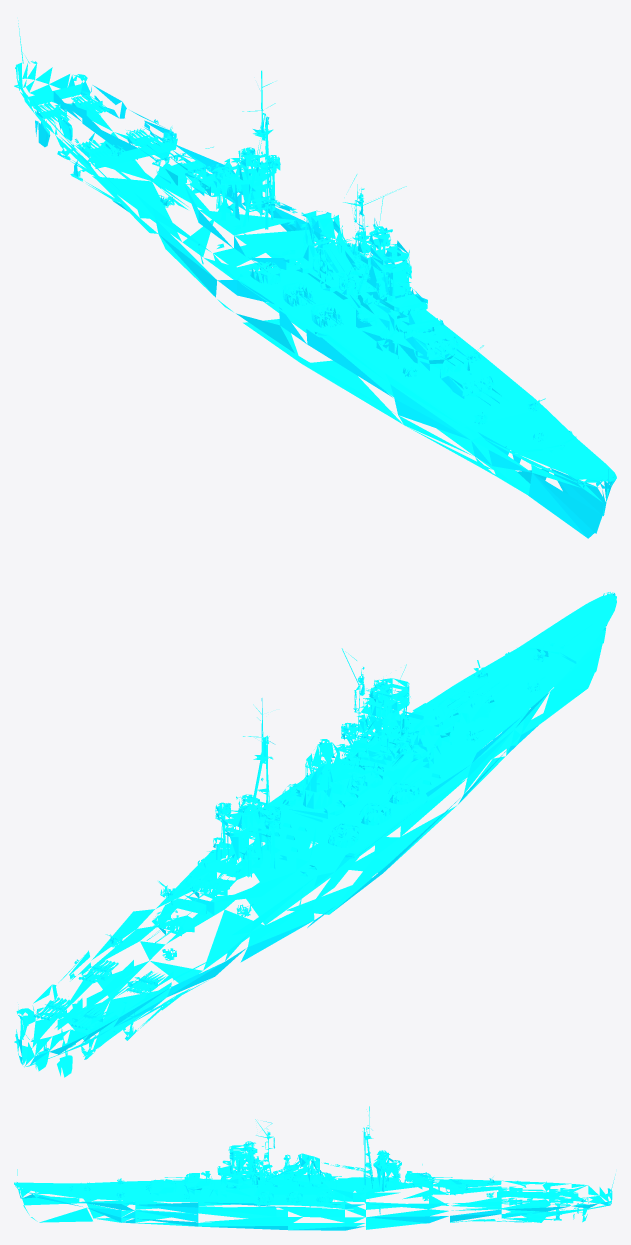
The model's file is PJSC034.glb.
3 views of the same model, one above another, from view 1: azimuth 30°, elevation 25°; view 2: azimuth 150°, elevation 25°; view 3: azimuth 270°, elevation 25° (orthographic). The views are drawn at different scales.
Parts seen in each view (by area): view 1: hull, turret; view 2: hull, turret; view 3: hull, turret.
Boxes of the visible parts, x1,y1,x2,y2 form: hull: (14, 20, 616, 538); turret: (138, 142, 508, 405); hull: (14, 592, 616, 1077); turret: (137, 679, 508, 943); hull: (14, 1106, 615, 1230); turret: (128, 1171, 485, 1202).
Bounding box in the file's own units: 1.71 × 3.19 × 14.94.
